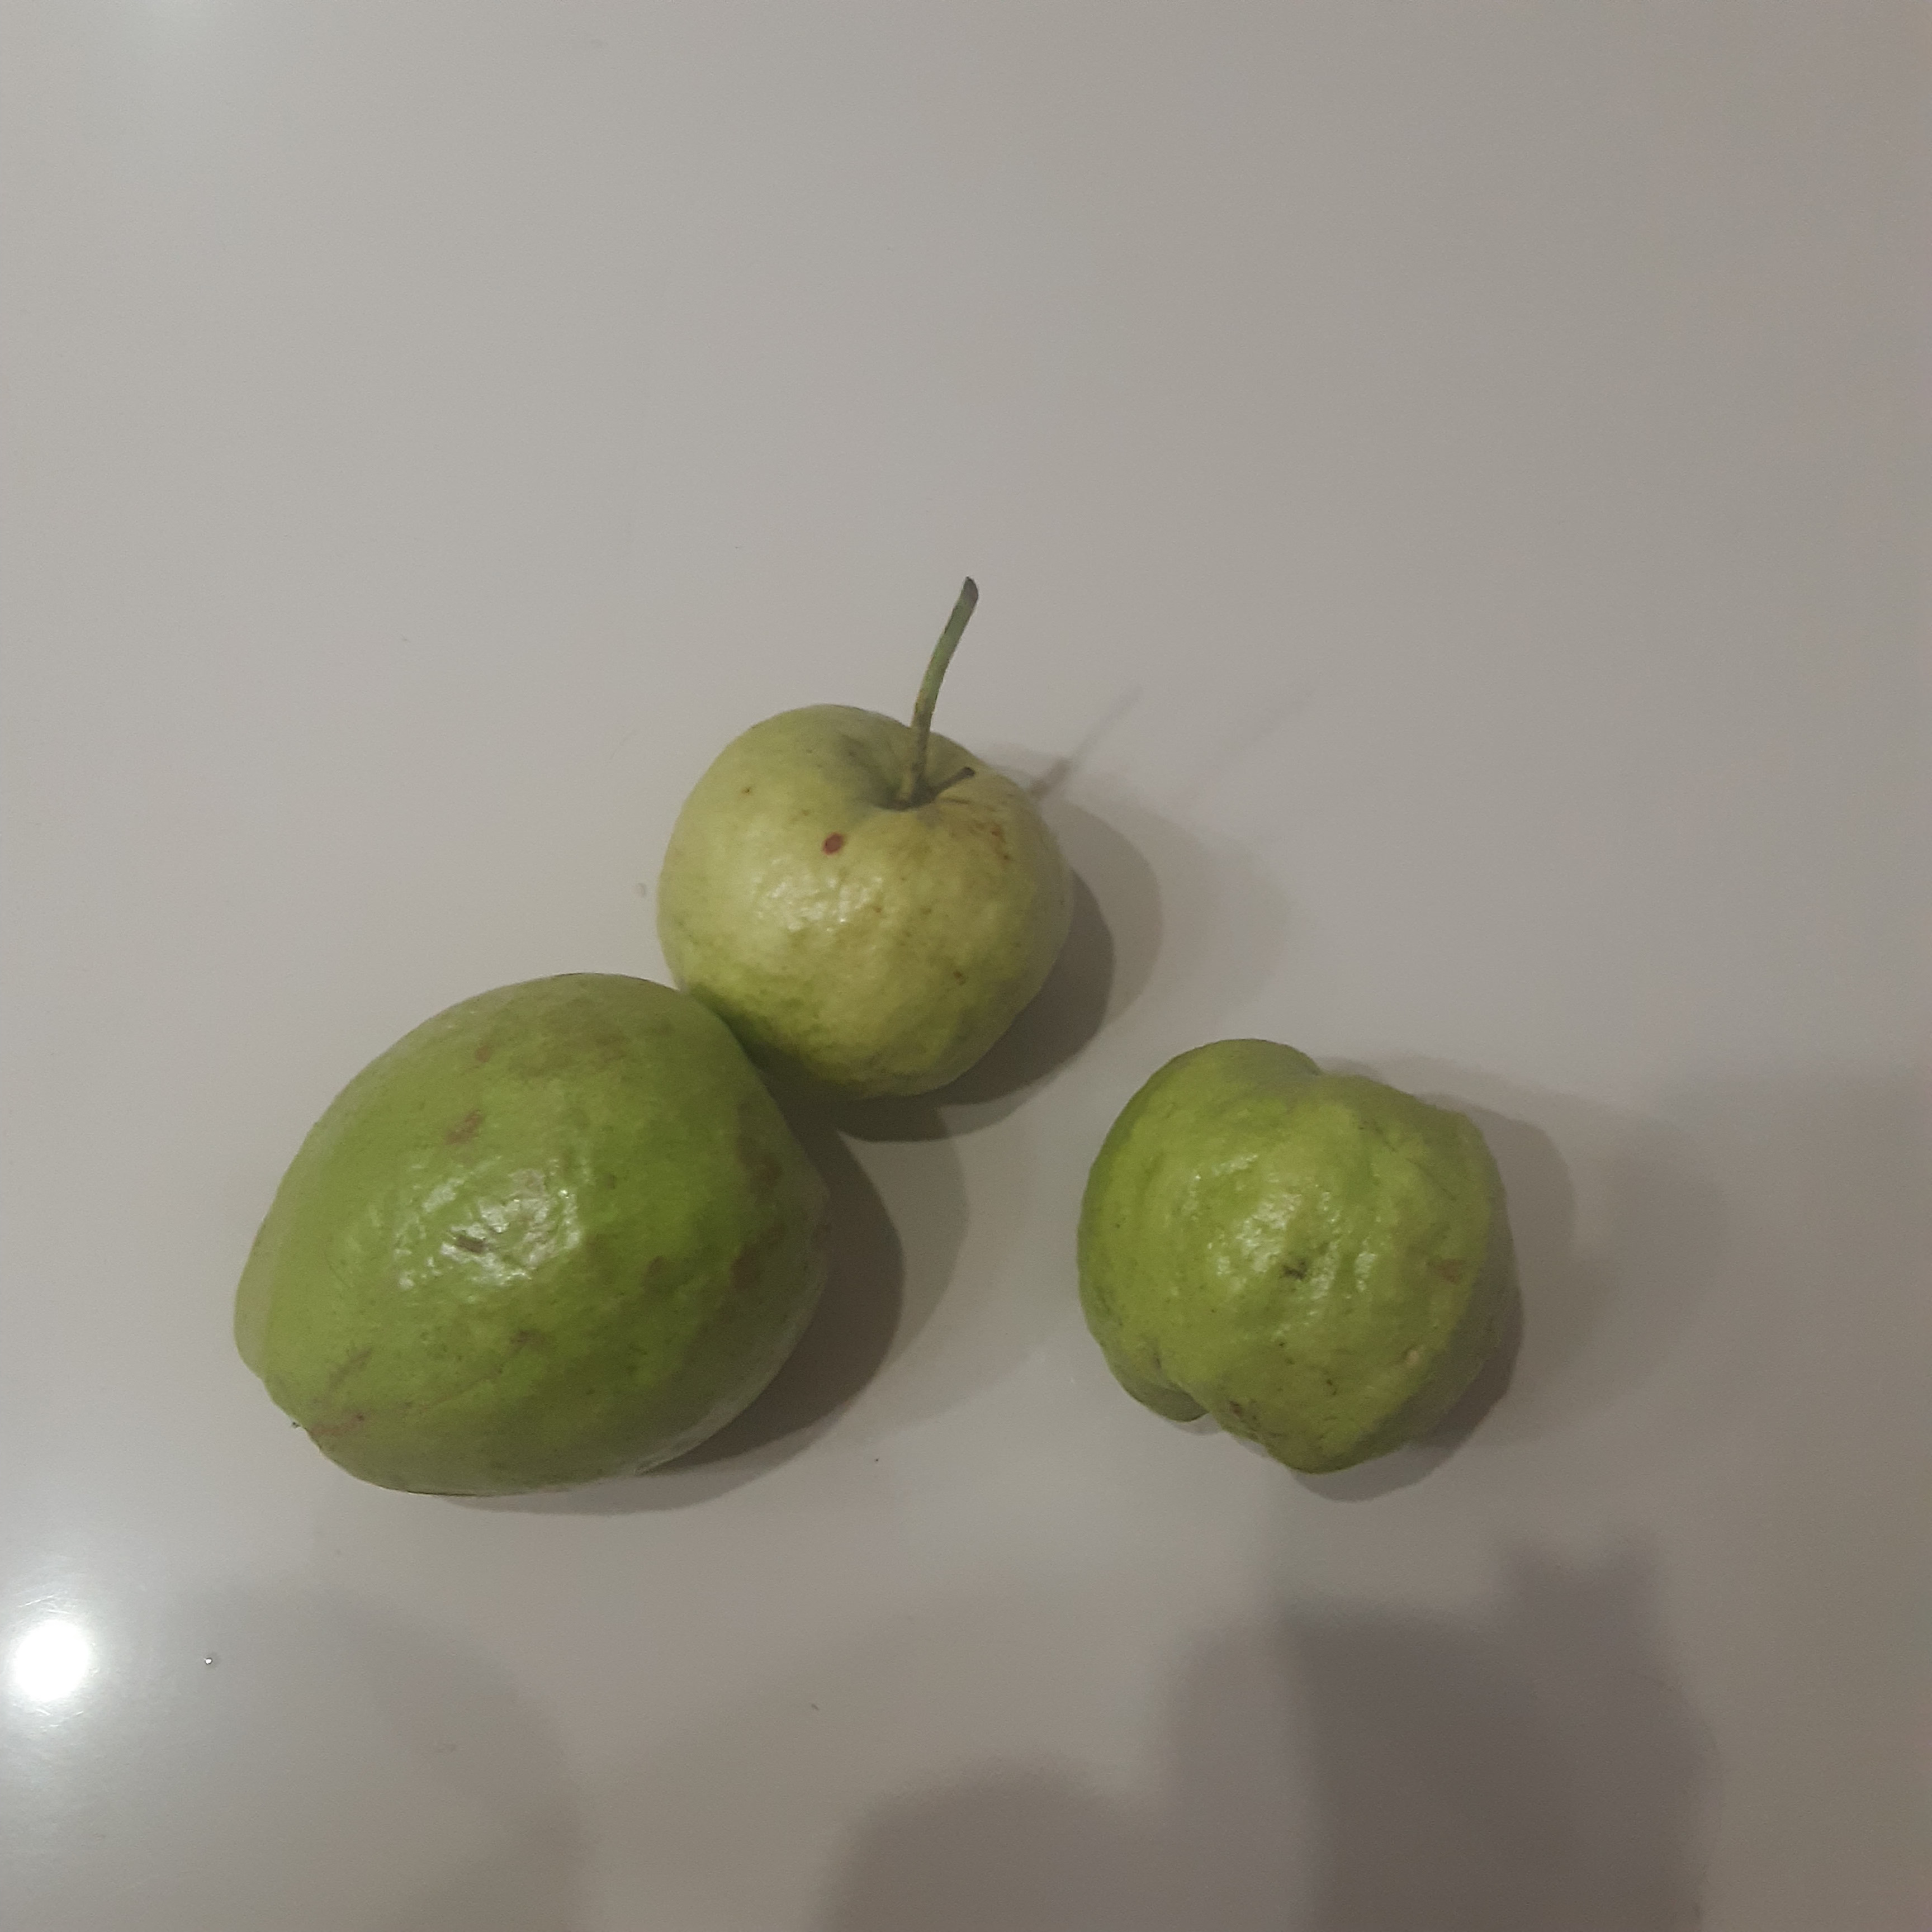Oi: (232, 970, 840, 1499), (1072, 1035, 1495, 1477), (655, 704, 1076, 1102)
